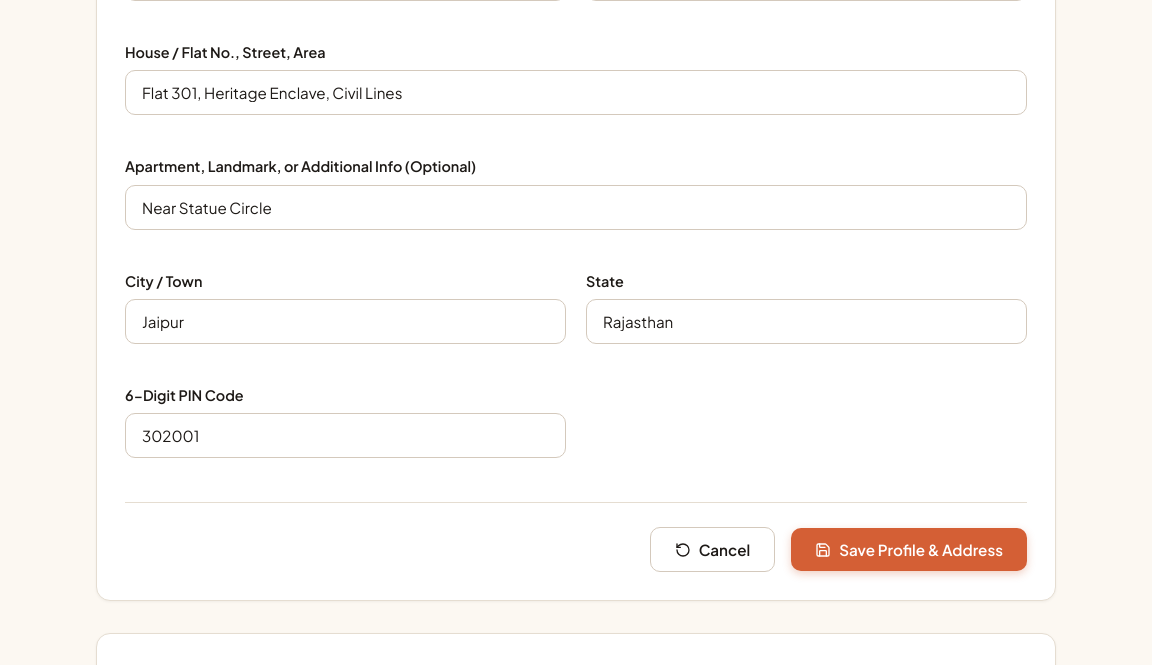
Test: PART 1 & 6: Customer Personal Space (Profile Hub) › successfully saves updated address and displays confirmation banner
(page scrolled)
Replace the text in the field labelled "City / Town" with "Udaipur" at (346, 322), box [125, 299, 566, 344]
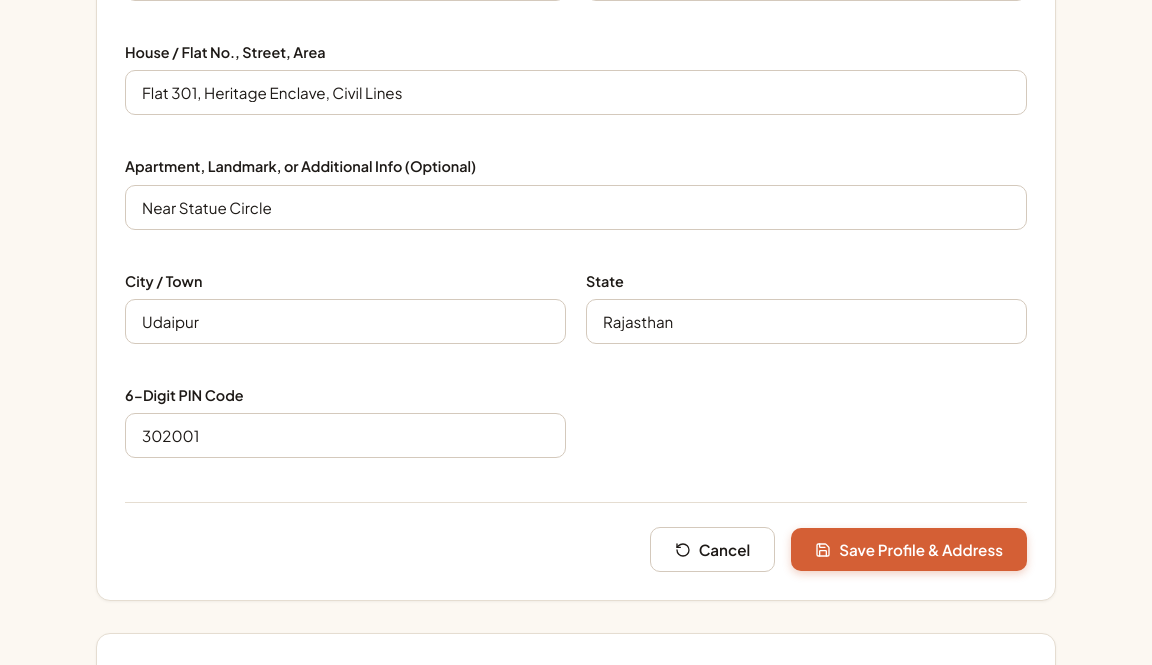
Click the button "Save Profile & Address".
click(909, 550)  # box [791, 528, 1027, 571]
(page scrolled)
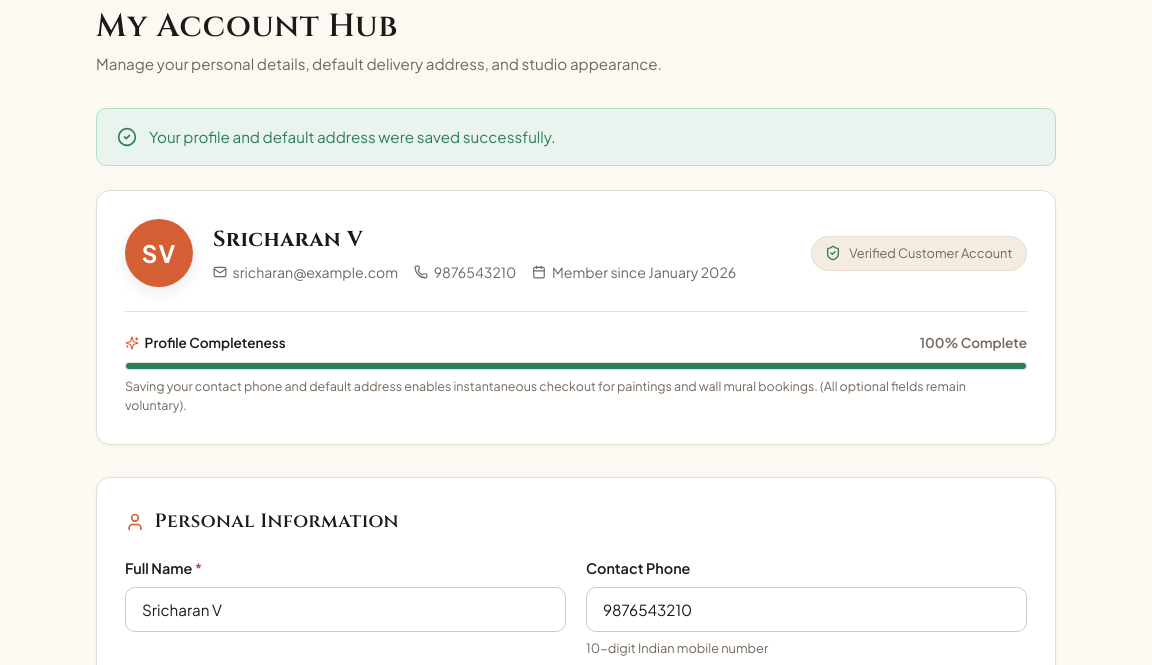
Result: the text "Your profile and default address were saved successfully." is shown at [149, 125, 556, 149]
